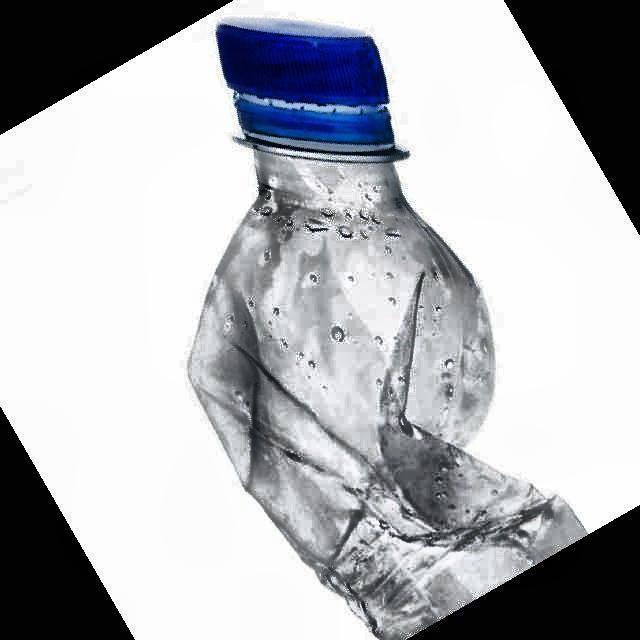plastic: (189, 18, 584, 639)
